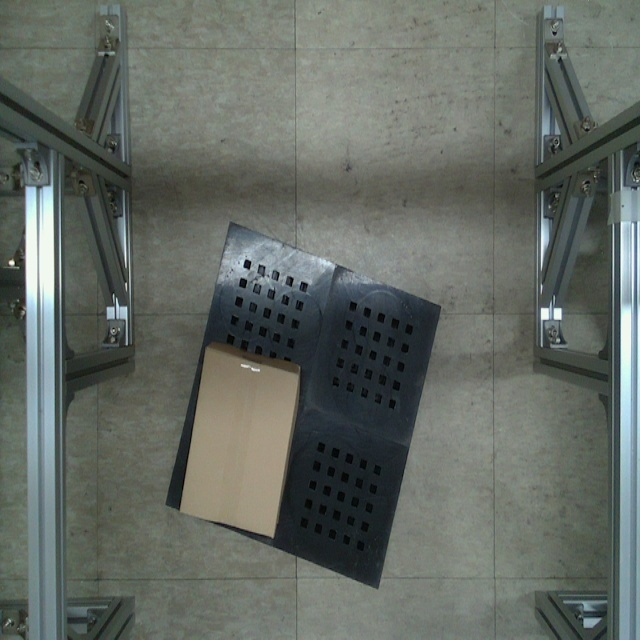box: (179, 343, 299, 541)
pallet: (157, 217, 448, 595)
